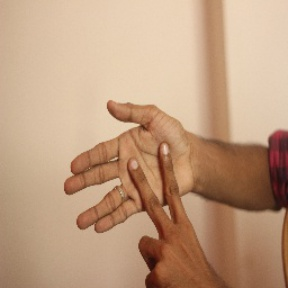N: (54, 96, 210, 287)
